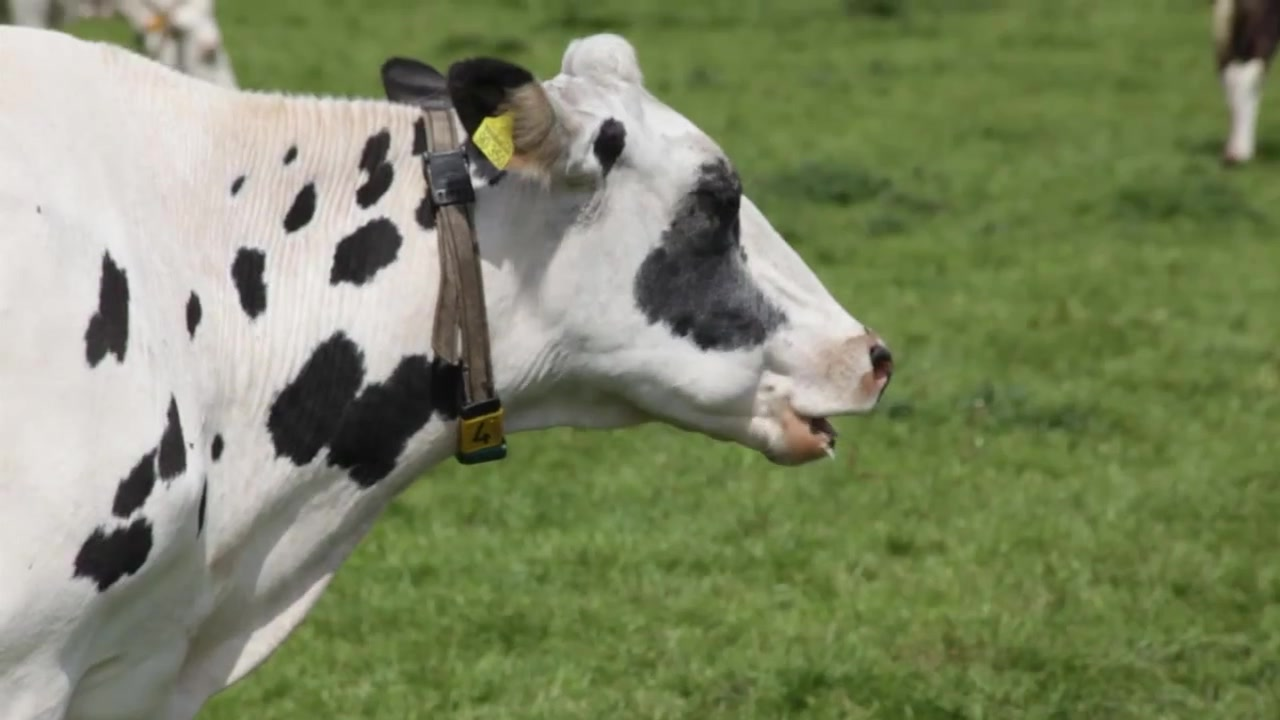cow: (1, 23, 899, 720)
